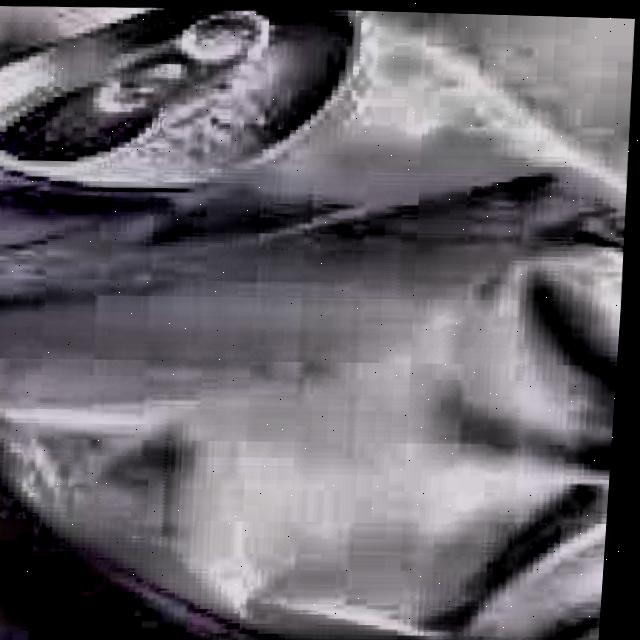metal: (0, 6, 629, 640)
